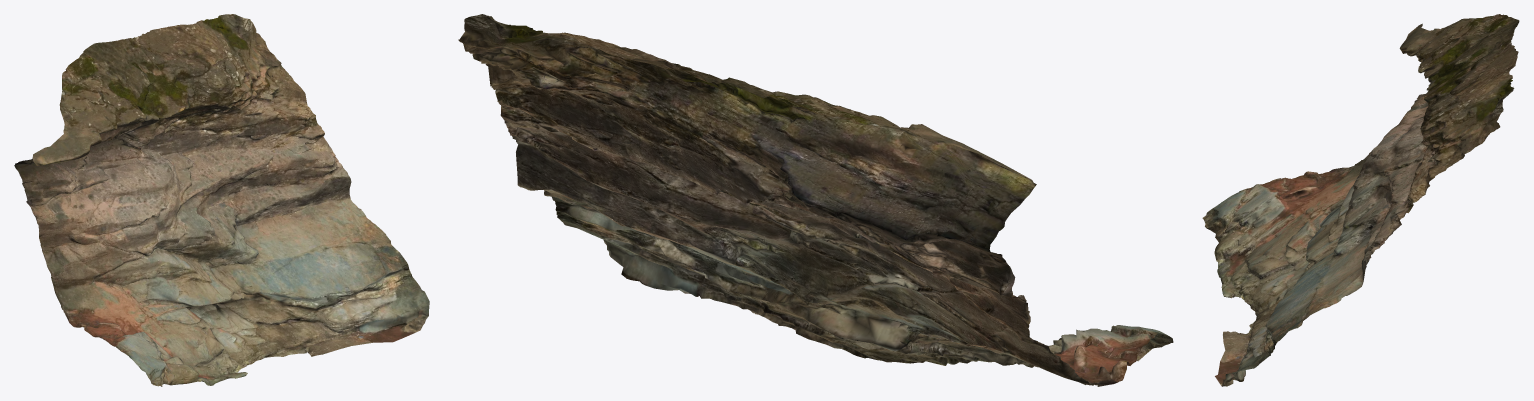
The model's file is rock-face-01.glb.
The picture shows the model from 3 angles, left to right: view 1: azimuth 30°, elevation 25°; view 2: azimuth 150°, elevation 25°; view 3: azimuth 270°, elevation 25°; orthographic projection. The views are drawn at different scales.
Parts seen in each view (by area): view 1: rock_face_01; view 2: rock_face_01; view 3: rock_face_01.
Part boxes in pixels (x1=…): rock_face_01: x1=14, y1=14, x2=429, y2=386; rock_face_01: x1=458, y1=14, x2=1173, y2=386; rock_face_01: x1=1202, y1=14, x2=1519, y2=386.
Size of the model in its own units: 4.95 by 3.56 by 3.83.
Materials: 1 (1 with a texture image).
